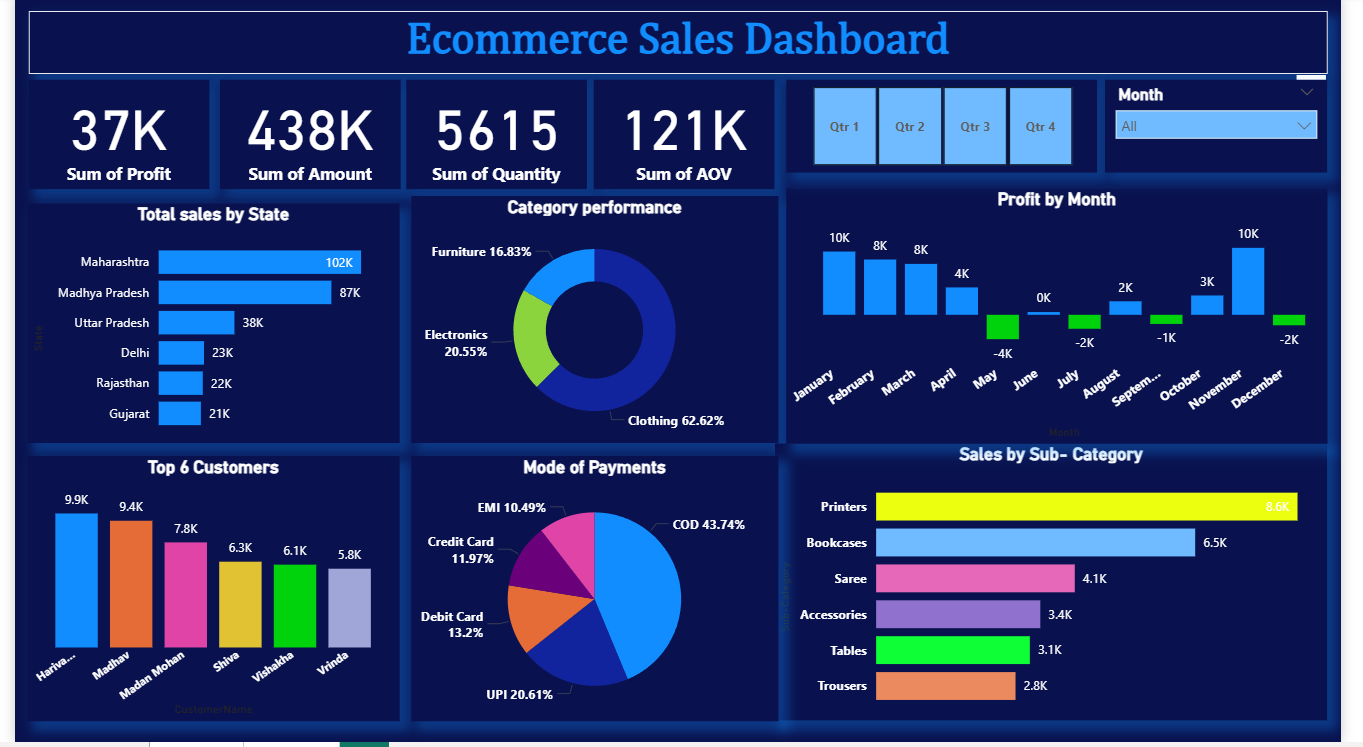

The dashboard page shown, as its layout file describes it:
{"tool":"powerbi","page":{"name":"Page 1","canvas":[1280,720],"ordinal":0},"visuals":[{"type":"textbox","box":[12.9,14.7,1253.3,60.4],"z":0},{"type":"card","fields":{"Values":["Sum(Details.Profit)"]},"box":[12.9,81.1,174.2,105.2],"z":1000},{"type":"card","fields":{"Values":["Sum(Details.Amount)"]},"box":[197.5,81.1,174.2,105.2],"z":2000},{"type":"card","fields":{"Values":["Sum(Details.Quantity)"]},"box":[377.8,81.1,174.2,105.2],"z":3000},{"type":"card","fields":{"Values":["Sum(Details.AOV)"]},"box":[558.9,81.1,174.2,105.2],"z":4000},{"type":"clusteredBarChart","title":"Total sales by State","fields":{"Category":["Orders.State"],"Y":["Sum(Details.Amount)"]},"box":[12.6,200.4,358.9,231.5],"z":5000},{"type":"donutChart","title":"Category performance","fields":{"Category":["Details.Category"],"Y":["Sum(Details.Quantity)"]},"box":[382.2,193.6,354,238.3],"z":6000},{"type":"clusteredBarChart","title":"Sales by Sub- Category","fields":{"Category":["Details.Sub-Category"],"Y":["Sum(Details.Profit)"]},"box":[733.2,432.1,533,267.4],"z":7000},{"type":"columnChart","title":"Top 6 Customers","fields":{"Category":["Orders.CustomerName"],"Y":["Sum(Details.Amount)"]},"box":[12.6,443.5,358.9,255.8],"z":8000},{"type":"pieChart","title":"Mode of Payments","fields":{"Y":["Sum(Details.Quantity)"],"Category":["Details.PaymentMode"]},"box":[382.2,443.5,354,255.8],"z":9000},{"type":"columnChart","title":"Profit by Month","fields":{"Category":["Orders.Order Date.Variation.Date Hierarchy.Month"],"Y":["Sum(Details.Profit)"]},"box":[744.1,185.8,522.3,246.1],"z":10000},{"type":"slicer","fields":{"Values":["Orders.Order Date.Variation.Date Hierarchy.Quarter"]},"box":[744.4,81.1,300.2,89.7],"z":11000},{"type":"slicer","fields":{"Values":["Orders.Order Date.Variation.Date Hierarchy.Month"]},"box":[1051.4,81.1,214.8,89.7],"z":12000}]}

Visuals, with their boxes in screenshot pixels (x1, y1, x2, y2), scaled from the page's 1280x720 canvas onto the 1363x747 screenshot:
textbox: Rect(14, 15, 1348, 78)
card - Sum(Details.Profit): Rect(14, 84, 199, 193)
card - Sum(Details.Amount): Rect(210, 84, 396, 193)
card - Sum(Details.Quantity): Rect(402, 84, 588, 193)
card - Sum(Details.AOV): Rect(595, 84, 781, 193)
"Total sales by State" clusteredBarChart: Rect(13, 208, 396, 448)
"Category performance" donutChart: Rect(407, 201, 784, 448)
"Sales by Sub- Category" clusteredBarChart: Rect(781, 448, 1348, 726)
"Top 6 Customers" columnChart: Rect(13, 460, 396, 726)
"Mode of Payments" pieChart: Rect(407, 460, 784, 726)
"Profit by Month" columnChart: Rect(792, 193, 1349, 448)
slicer - Orders.Order Date.Variation.Date Hierarchy.Quarter: Rect(793, 84, 1112, 177)
slicer - Orders.Order Date.Variation.Date Hierarchy.Month: Rect(1120, 84, 1348, 177)
